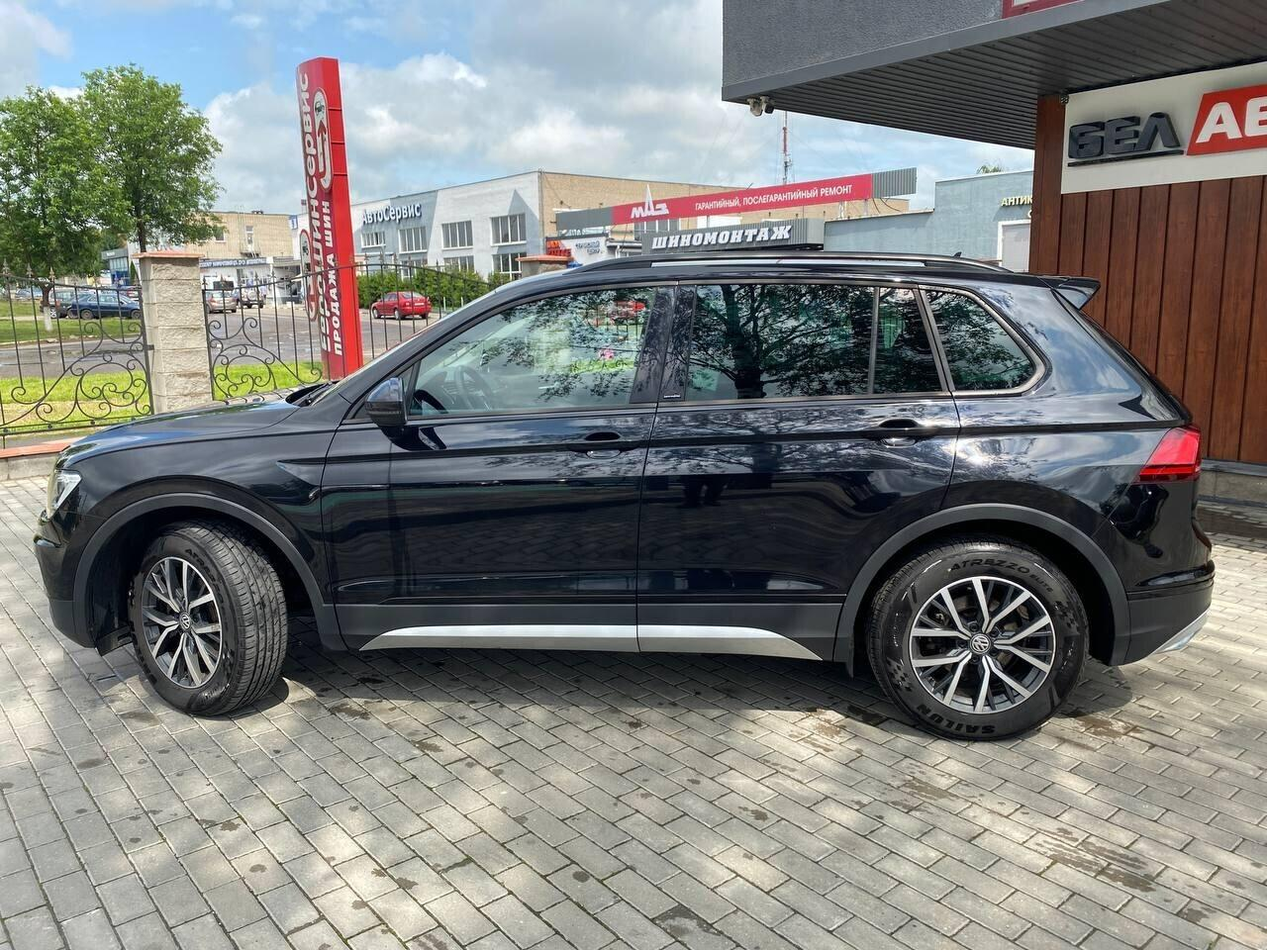Tiguan_2016-2021: (30, 257, 1210, 737)
